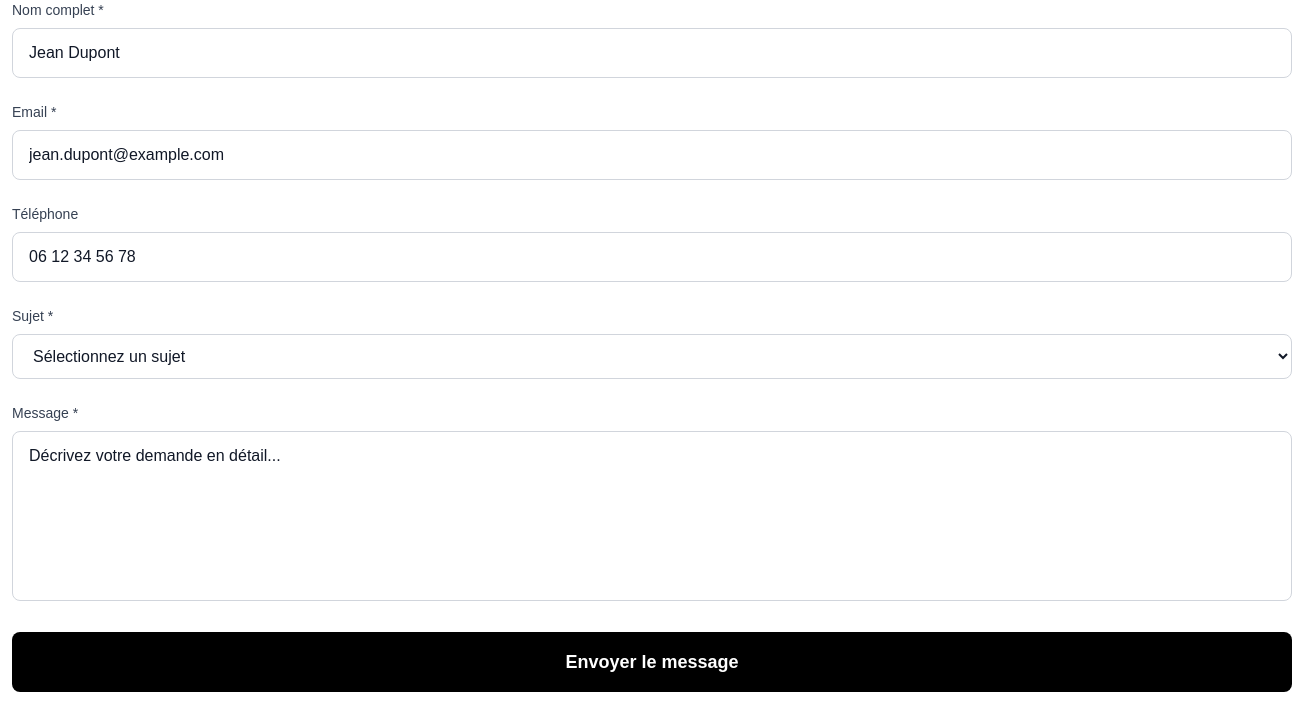
Test: ContactForm Component › should show success message on successful submission
Type "John Doe" into the field labelled "Nom complet *".
click(652, 53); type("John Doe")  # box x1=12 y1=28 x2=1292 y2=78
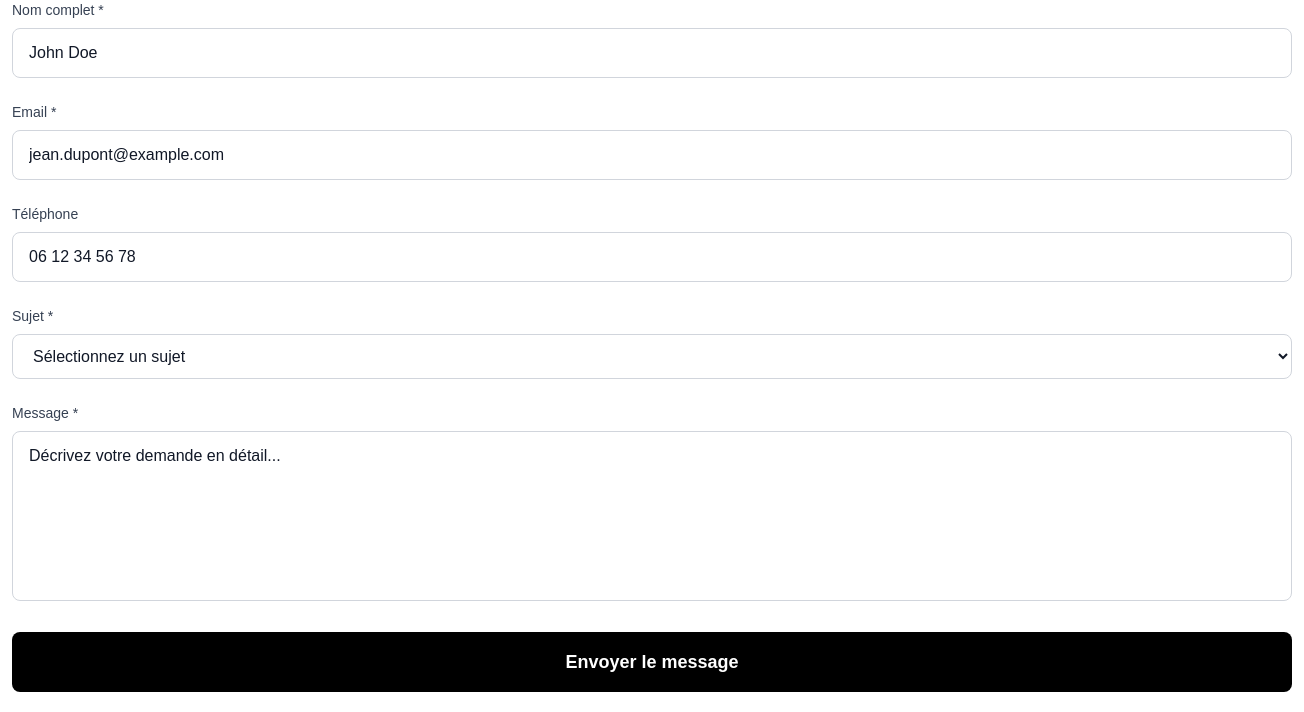
Type "john@example.com" into the field labelled "Email *".
click(652, 155); type("john@example.com")  # box x1=12 y1=130 x2=1292 y2=180
(page scrolled)
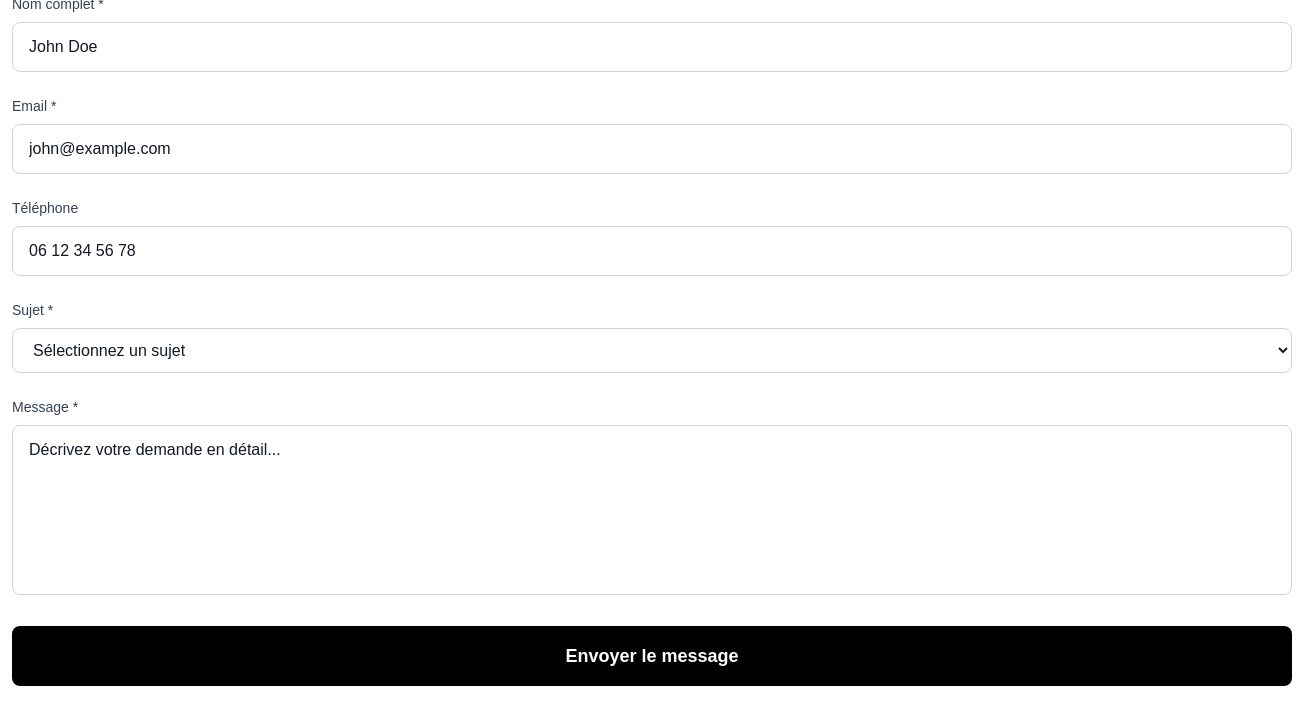
Submit the form labelled "Nom complet"
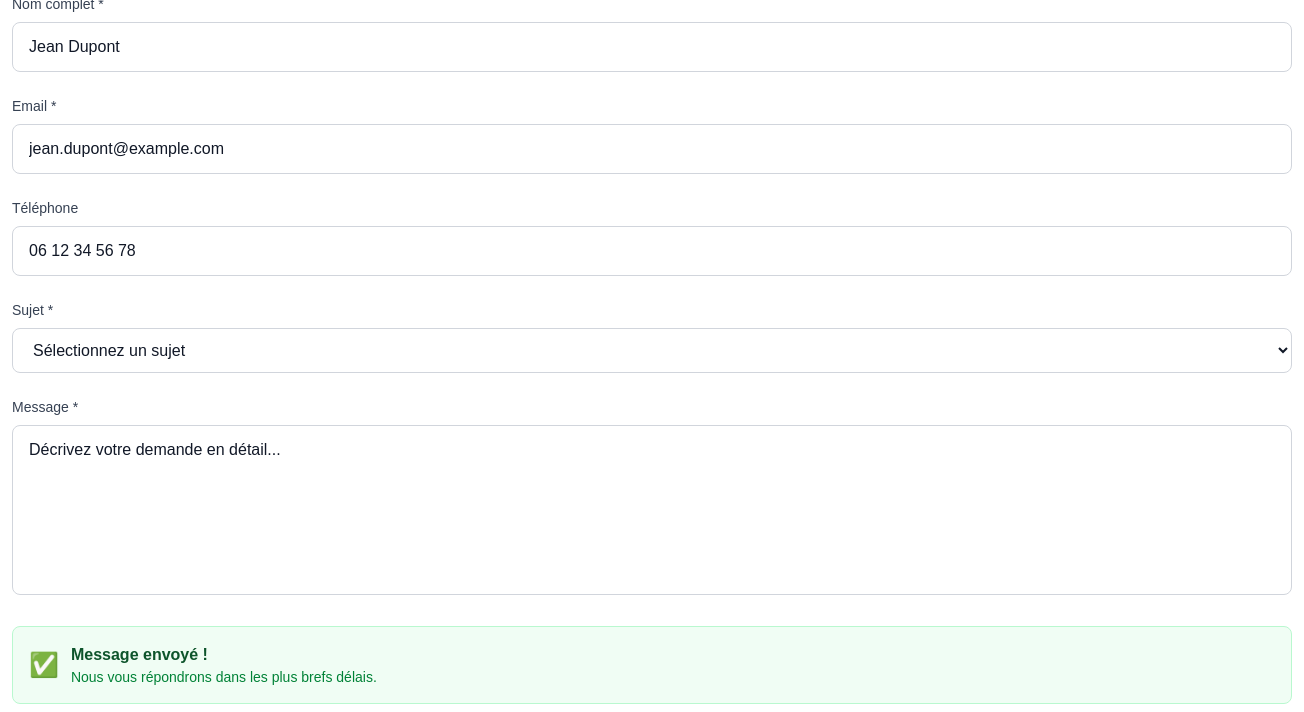
Result: the heading "Message envoyé !" is shown at x1=71 y1=646 x2=208 y2=663
